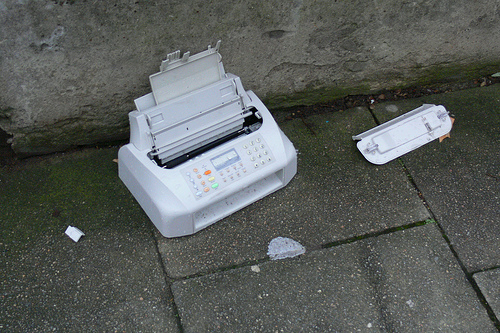litter: (353, 103, 451, 166), (66, 225, 83, 242)
